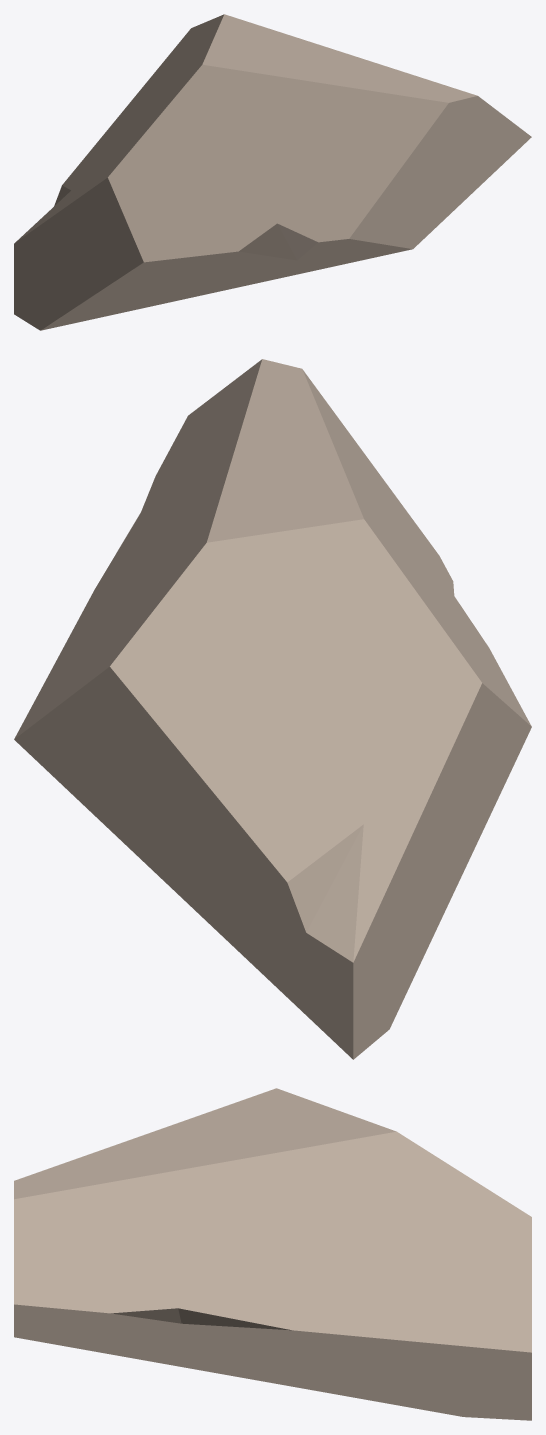
Rendered from JaggedRock1.glb.
3 renders of one model, top to bottom at view 1: azimuth 30°, elevation 25°; view 2: azimuth 150°, elevation 25°; view 3: azimuth 270°, elevation 25°, orthographic. The views are drawn at different scales.
Parts seen in each view (by area): view 1: JaggedRock1; view 2: JaggedRock1; view 3: JaggedRock1.
Part boxes in pixels (<box>): JaggedRock1: <box>14,14,531,330</box>; JaggedRock1: <box>14,359,531,1059</box>; JaggedRock1: <box>14,1088,531,1420</box>.
Size of the model in its own units: 0.7999 by 0.7173 by 0.8636.
